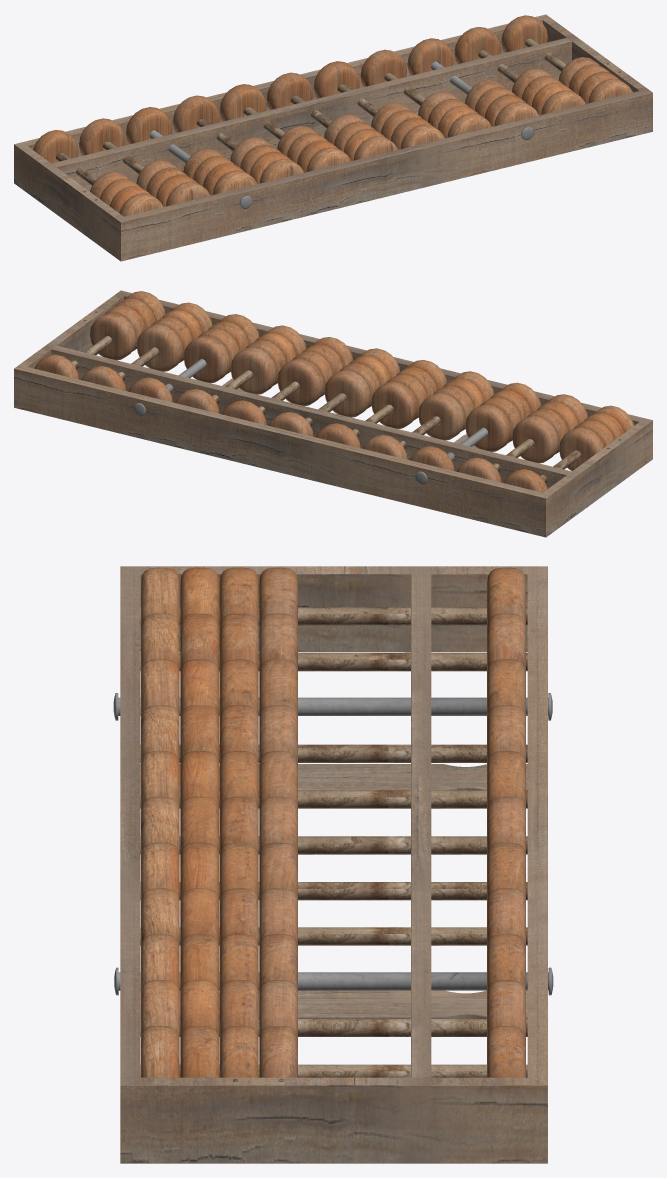
File: abacus_decimal_11.fbx
3 renders of one model, top to bottom at view 1: azimuth 30°, elevation 25°; view 2: azimuth 150°, elevation 25°; view 3: azimuth 270°, elevation 25°, orthographic. The views are drawn at different scales.
Parts seen in each view (by area): view 1: Frame, Bead, Pillar; view 2: Bead, Frame, Pillar; view 3: Bead, Frame, Pillar.
Boxes of the visible parts, <box> form: Frame: <box>14,14,652,261</box>; Bead: <box>33,15,632,216</box>; Pillar: <box>56,38,566,208</box>; Bead: <box>34,291,634,492</box>; Frame: <box>14,290,652,537</box>; Pillar: <box>71,336,581,484</box>; Bead: <box>141,567,525,1077</box>; Frame: <box>120,566,547,1163</box>; Pillar: <box>113,607,553,1077</box>.
Bounding box in the file's own units: 1666 × 152 × 596.
